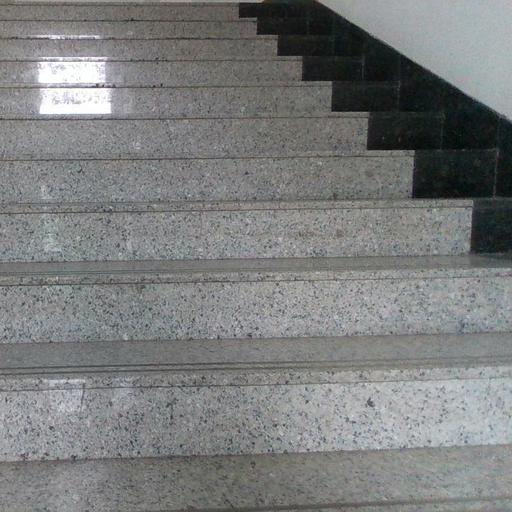stairs: (0, 3, 511, 511)
